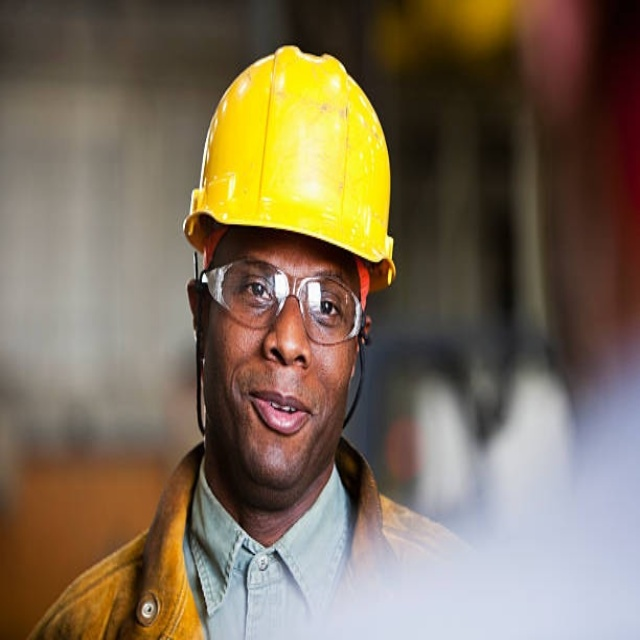Gafas: (200, 256, 363, 350)
Sin_mascara: (232, 376, 321, 467)
